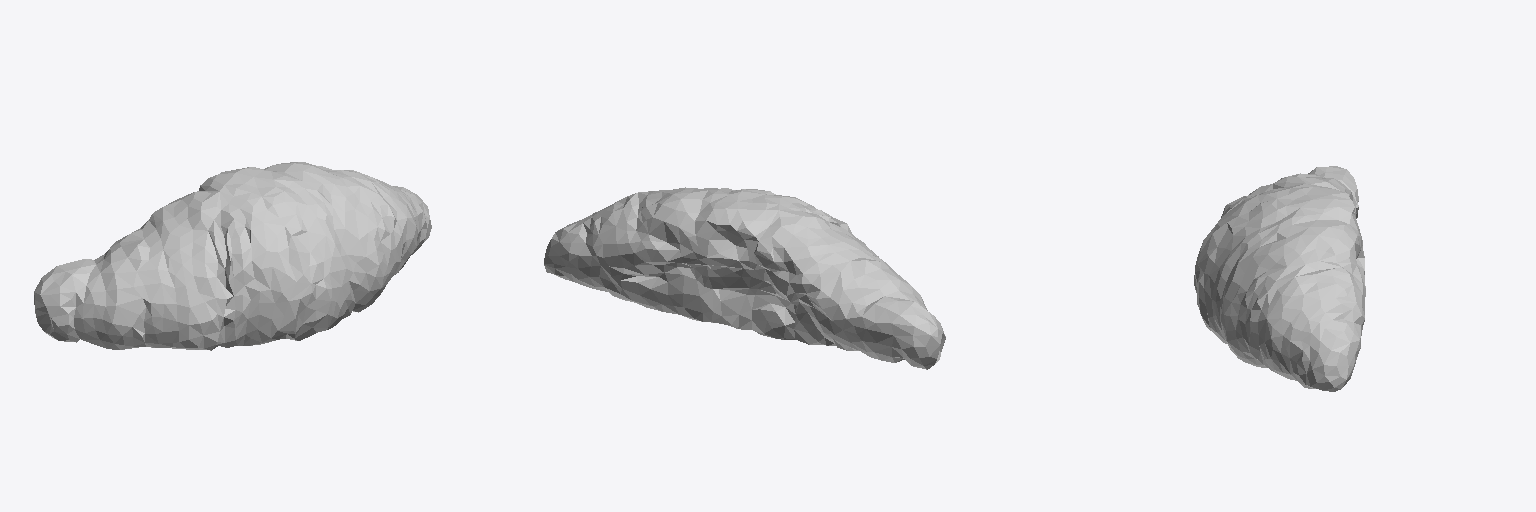
The model's file is croissant_4k.obj.
3 renders of one model, left to right at view 1: azimuth 30°, elevation 25°; view 2: azimuth 150°, elevation 25°; view 3: azimuth 270°, elevation 25°, orthographic.
Visible parts, largest first — view 1: croissant_Croissant_croissant_10M_textured.001; view 2: croissant_Croissant_croissant_10M_textured.001; view 3: croissant_Croissant_croissant_10M_textured.001.
Part boxes in pixels (x1,y1,x2,y2): croissant_Croissant_croissant_10M_textured.001: (34,162,431,350); croissant_Croissant_croissant_10M_textured.001: (544,187,945,369); croissant_Croissant_croissant_10M_textured.001: (1194,166,1365,391).
Size of the model in its own units: 0.2 by 0.062 by 0.0755.